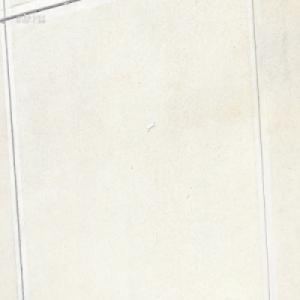Wrench: (146, 121, 154, 131)
